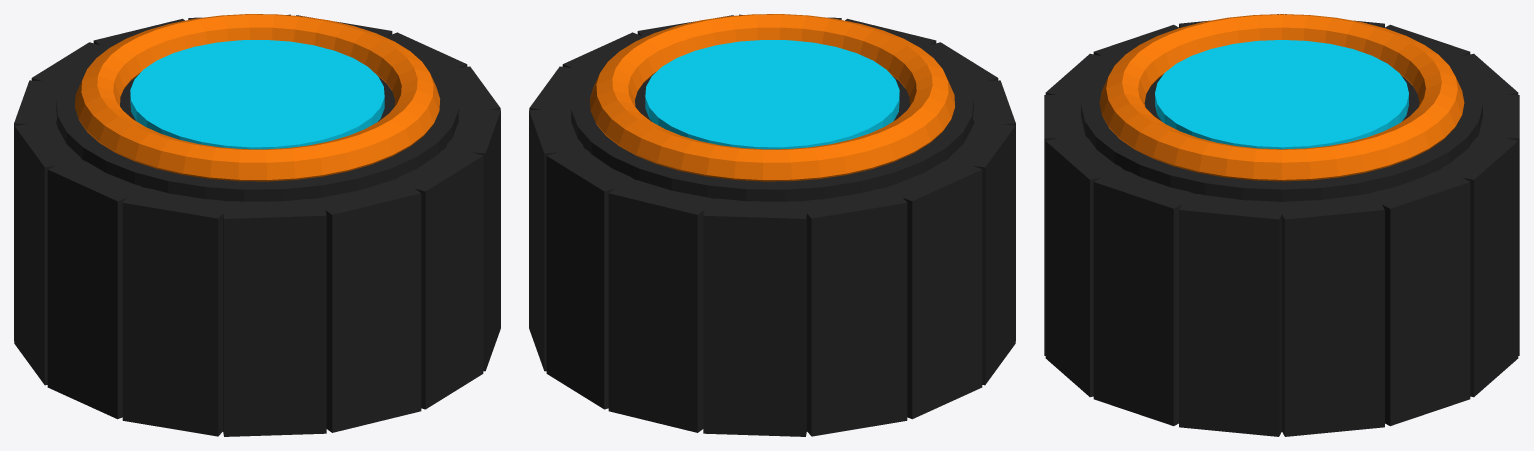
The model's file is wheel_front_left_visual.obj.
3 renders of one model, left to right at view 1: azimuth 30°, elevation 25°; view 2: azimuth 150°, elevation 25°; view 3: azimuth 270°, elevation 25°, orthographic.
Size of the model in its own units: 0.2373 by 0.142 by 0.232.
